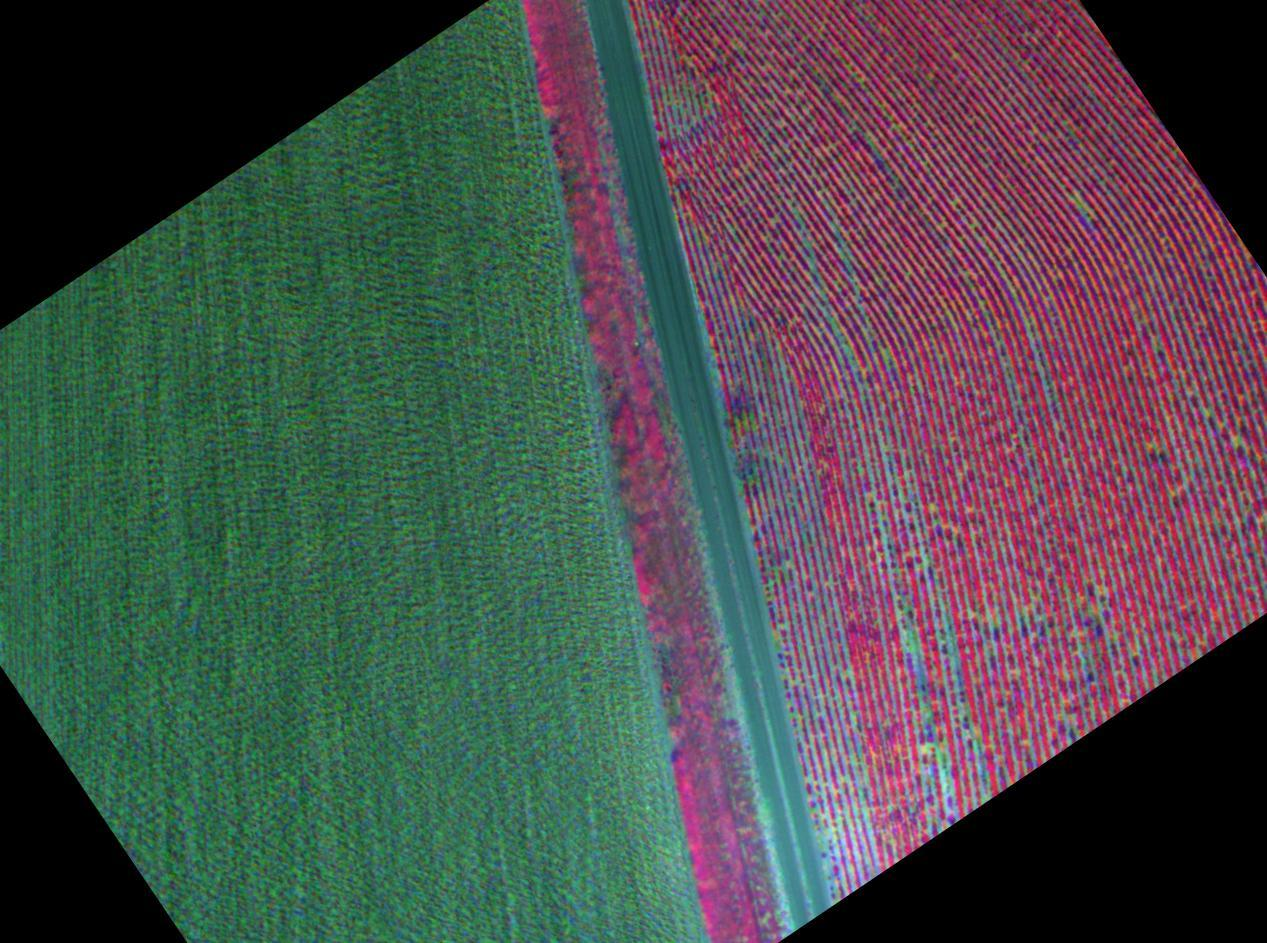dc: (911, 646, 916, 651), (828, 829, 833, 834), (876, 501, 880, 506), (918, 748, 921, 754), (1129, 653, 1133, 657), (970, 225, 974, 228), (1028, 741, 1031, 745), (929, 507, 932, 510), (707, 94, 710, 97), (859, 79, 861, 82)
